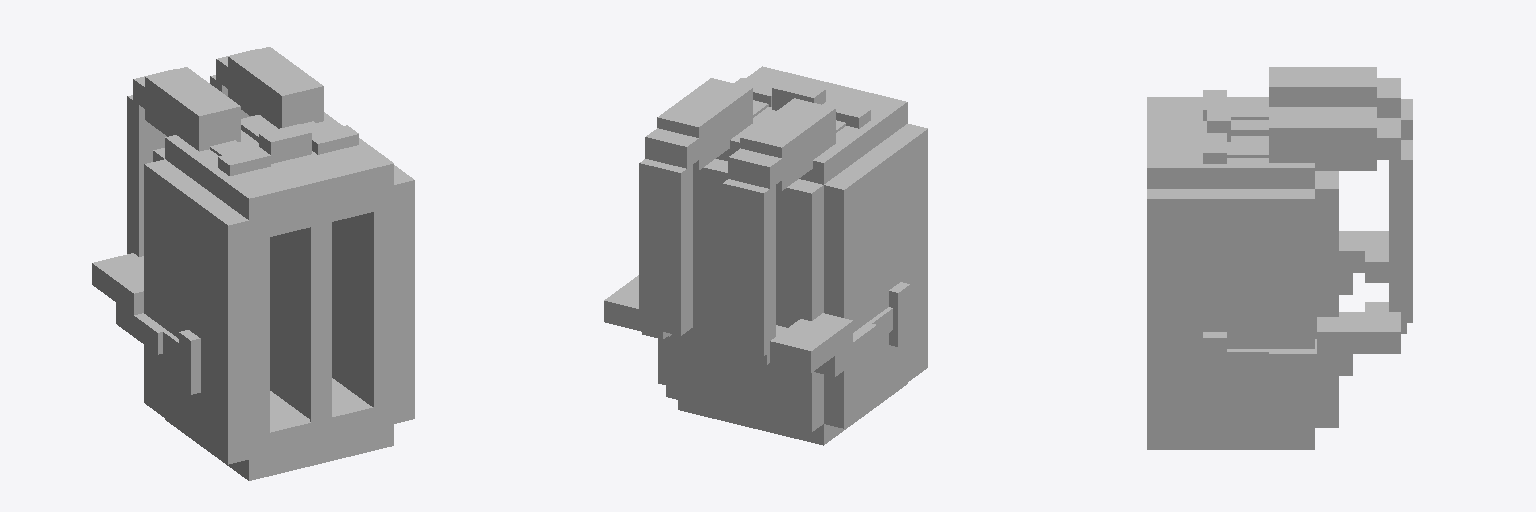
File: backpack_new_-_finalbbmodel.obj
3 views of the same model, side by side, from view 1: azimuth 30°, elevation 25°; view 2: azimuth 150°, elevation 25°; view 3: azimuth 270°, elevation 25° (orthographic).
Parts seen in each view (by area): view 1: cube; view 2: cube; view 3: cube.
Part boxes in pixels (x1,y1,x2,y2): cube: (92,47,414,480); cube: (604,66,927,445); cube: (1147,67,1412,449).
Bounding box in the file's own units: 0.625 × 0.9141 × 0.6914.